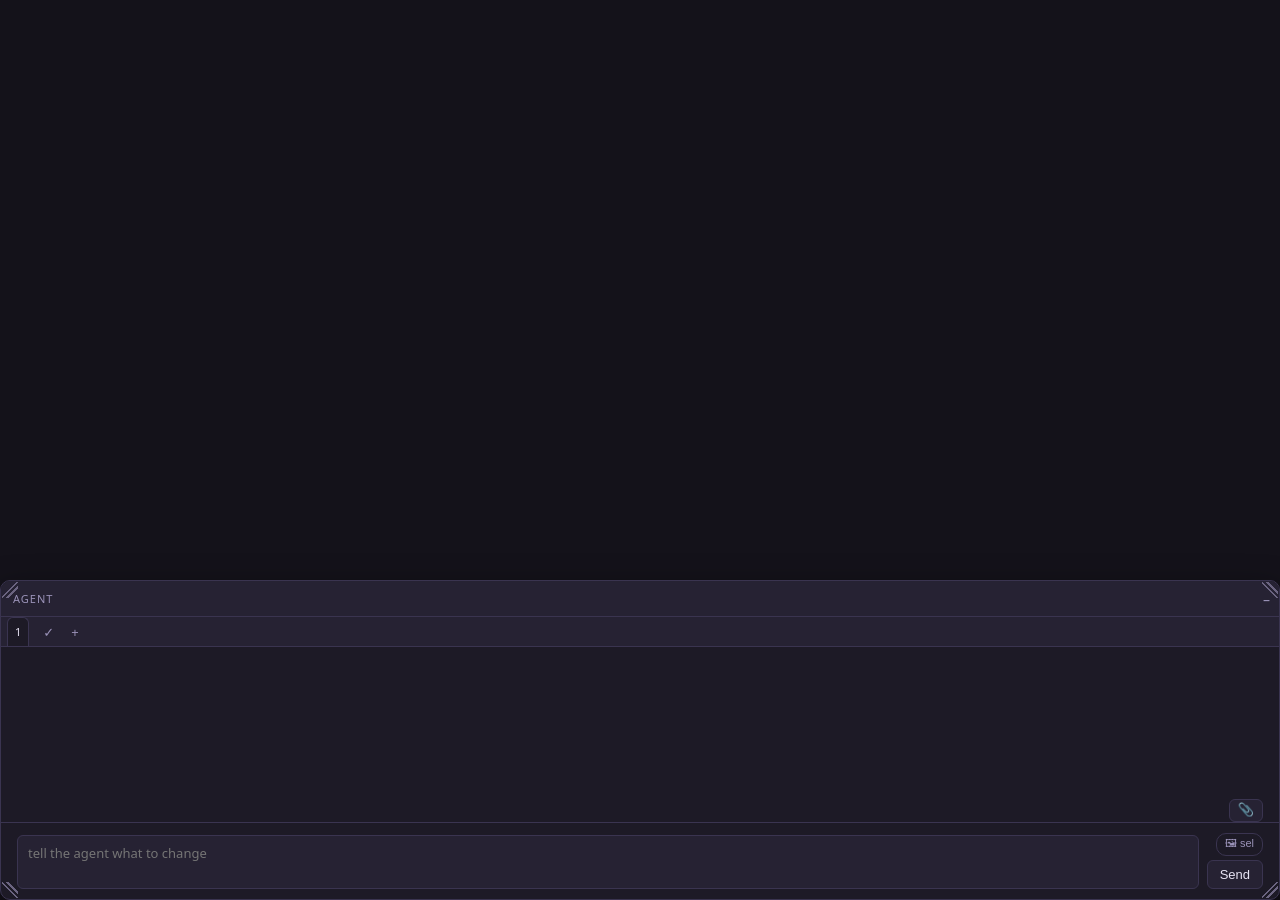
Test case: FloatingChat › adds a session tab via + and can close all but the last
expect the number of tabs is 1: met, box top-left (7, 617), bottom-right (29, 646)
Step 1. Click the button named "new chat session" → click(72, 632), box top-left (59, 617), bottom-right (85, 646)
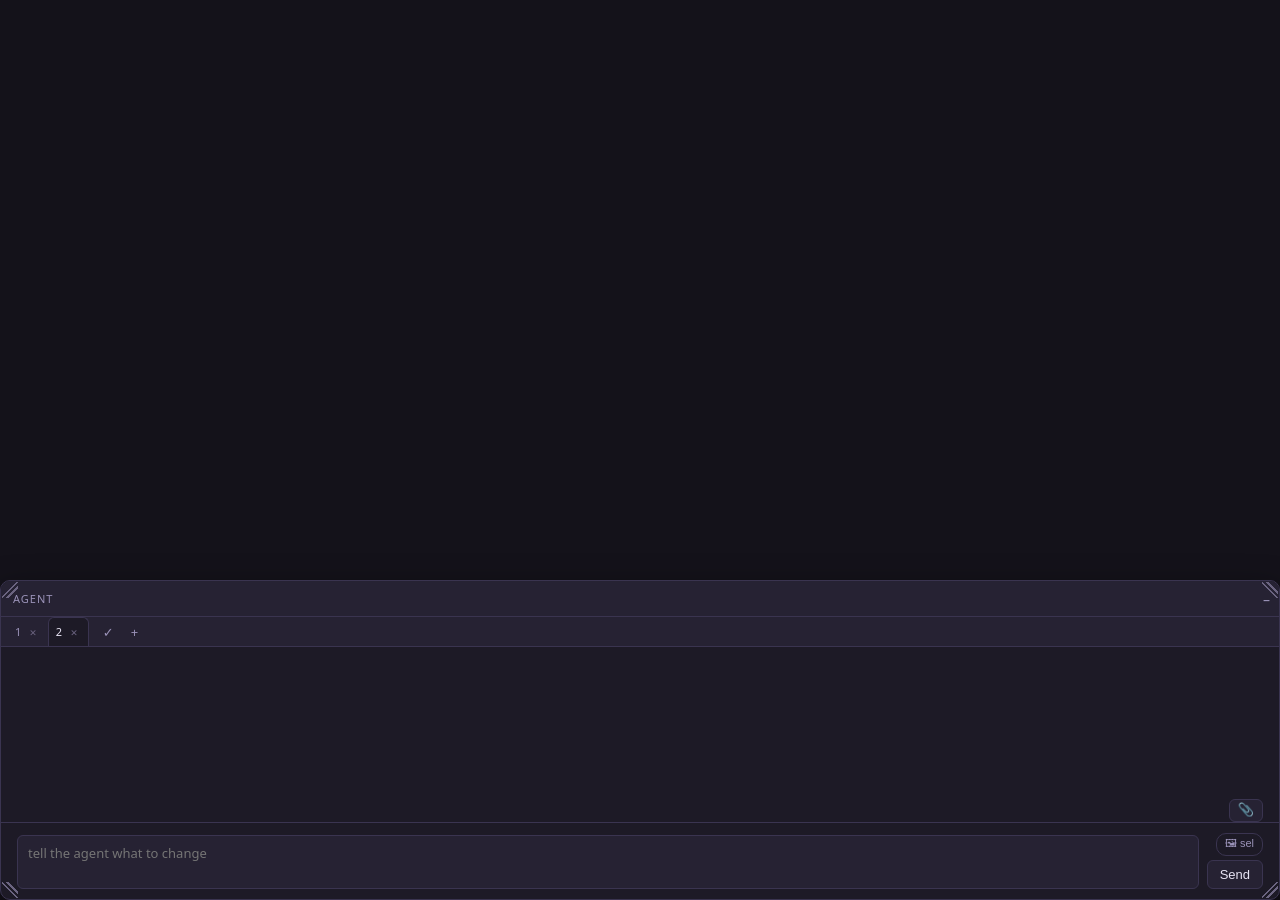
expect the number of tabs is 2: met, box top-left (15, 624), bottom-right (40, 640); top-left (48, 617), bottom-right (89, 646)
Step 2. Click the button named "close session 2" → click(74, 632), box top-left (67, 624), bottom-right (81, 640)
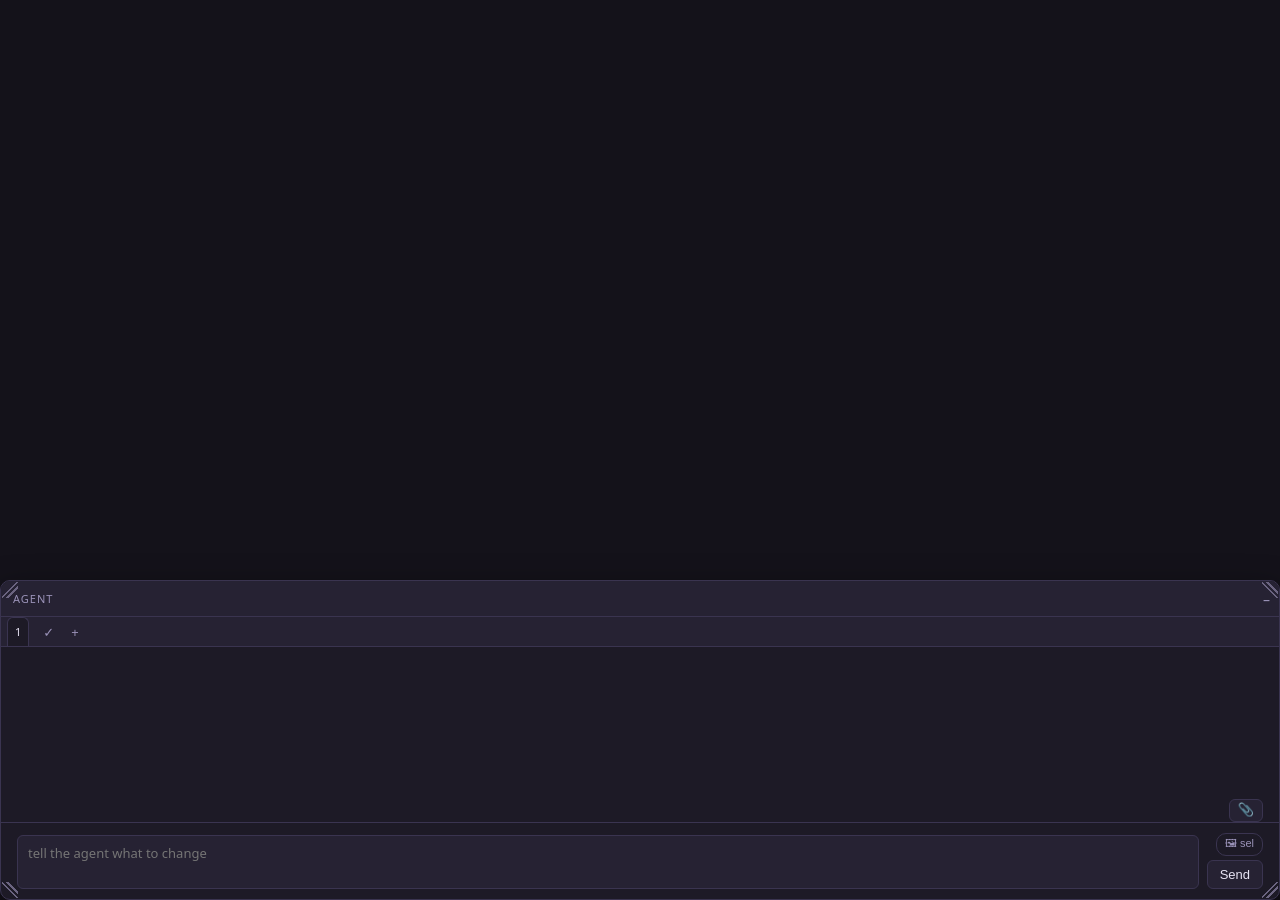
expect the number of tabs is 1: met, box top-left (7, 617), bottom-right (29, 646)
